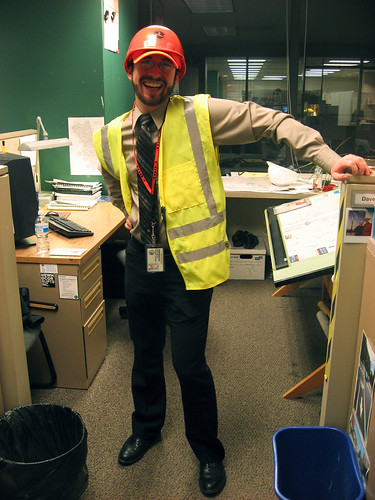person hardhat: (89, 24, 352, 490)
